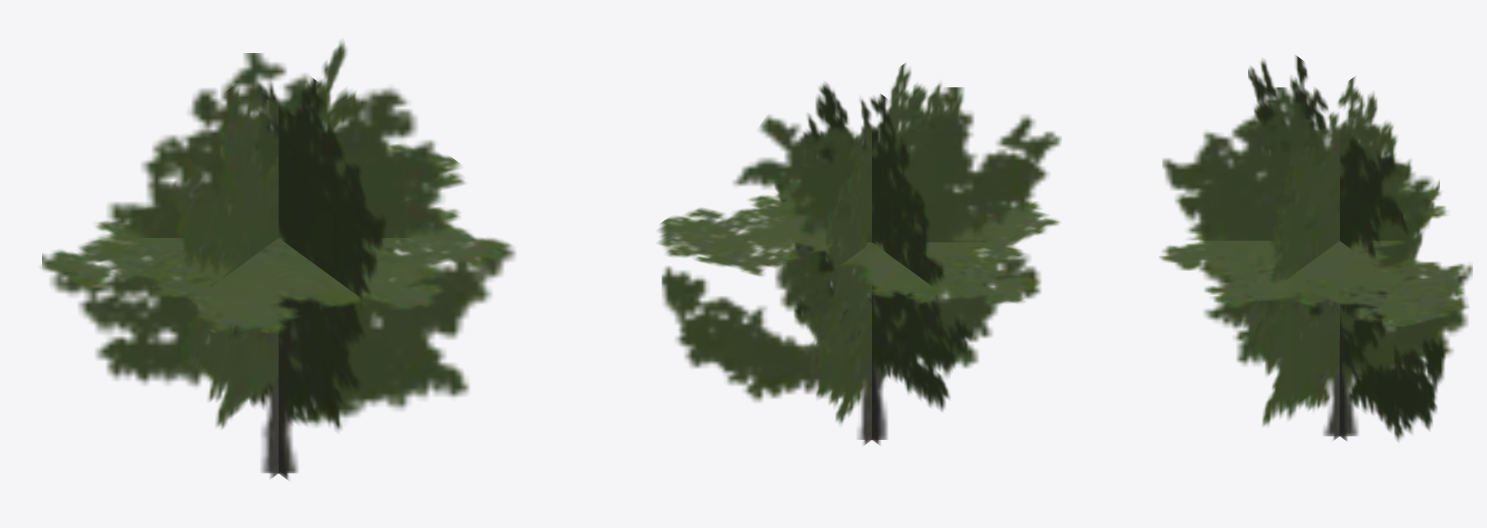
Rendered from toak1_far.glb.
3 renders of one model, left to right at view 1: azimuth 30°, elevation 25°; view 2: azimuth 150°, elevation 25°; view 3: azimuth 270°, elevation 25°, orthographic. The views are drawn at different scales.
Visible parts, largest first — view 1: prefab; view 2: prefab; view 3: prefab.
Boxes of the visible parts, bbox=[...] form: prefab: bbox=[41, 41, 515, 479]; prefab: bbox=[658, 63, 1061, 445]; prefab: bbox=[1159, 55, 1472, 441].
Bounding box in the file's own units: 16.28 × 15.39 × 12.54.
Materials: 1 (1 with a texture image).
